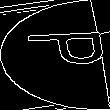P_E: (6, 34, 104, 76)
